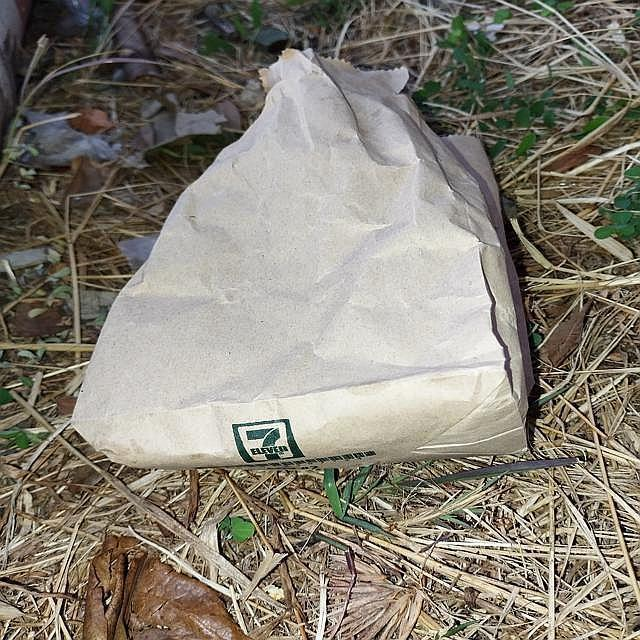Biodegradable: (74, 52, 535, 470)
